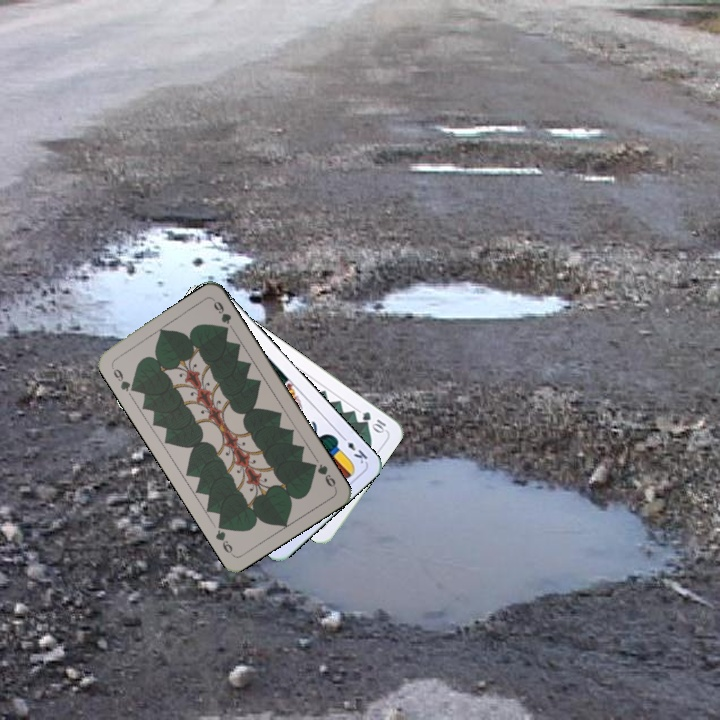EK: (337, 431, 370, 466)
G10: (358, 407, 389, 436)
G9: (107, 362, 139, 395), (307, 459, 339, 491)
